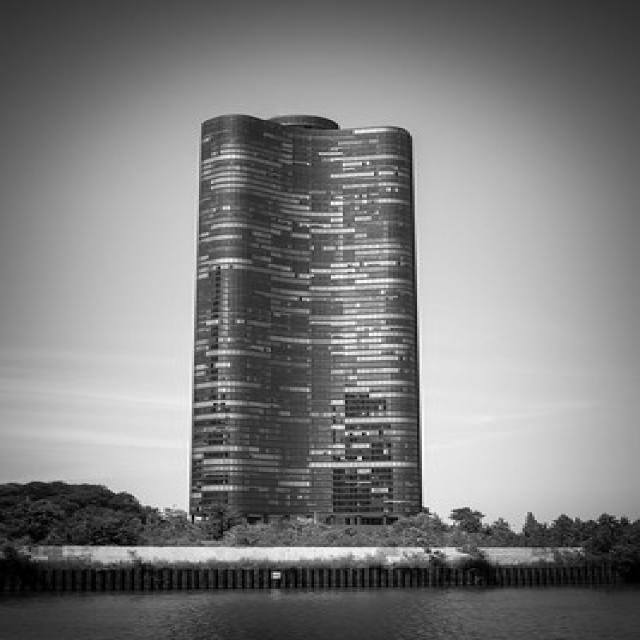Normal_building: (185, 106, 432, 529)
